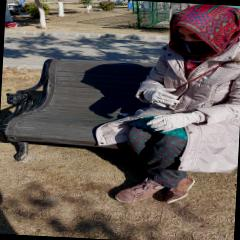gloved: (148, 111, 196, 134), (144, 86, 181, 108)
